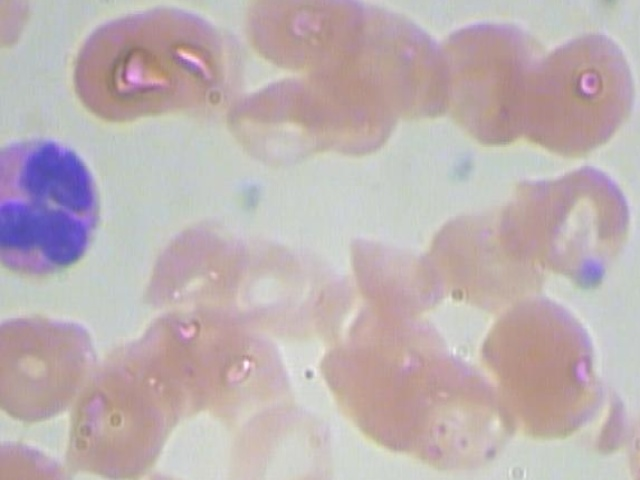Platelets: (575, 257, 606, 293)
RBC: (384, 342, 518, 474), (522, 156, 640, 298), (426, 17, 548, 153), (525, 16, 640, 159), (0, 289, 102, 433), (480, 288, 596, 408), (187, 325, 304, 438), (66, 12, 183, 125), (341, 226, 457, 325), (227, 69, 343, 168), (139, 215, 255, 313), (236, 0, 352, 73), (234, 236, 320, 328)
WBC: (0, 133, 118, 282)
